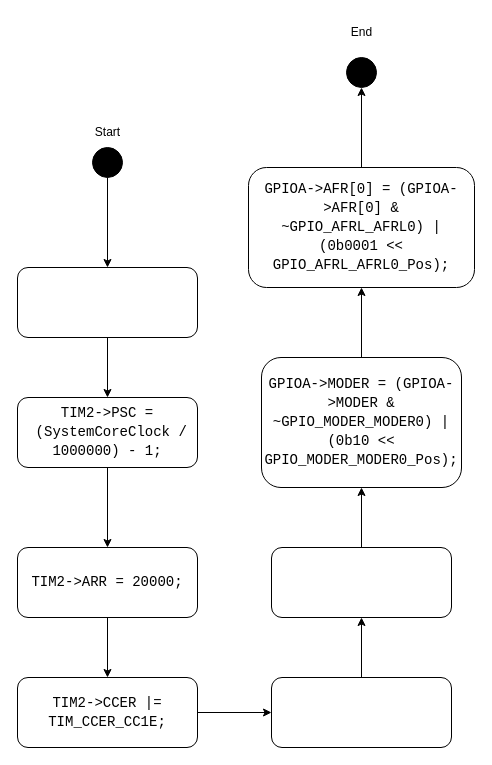
The diagram is 492 pixels wide and 765 high, and some of its shapes have lost their labels. The centre of each missing label's shape, as x and y in pixels:
"RCC->APB1ENR |= RCC_APB1ENR_TIM2EN" goes at point 107,302.
"TIM2->CCER &= ~(TIM_CCER_CC1P_Msk | TIM_CCER_CC1NP_Msk);" goes at point 361,712.
"TIM2->CR1 |= TIM_CR1_CEN;" goes at point 361,582.
